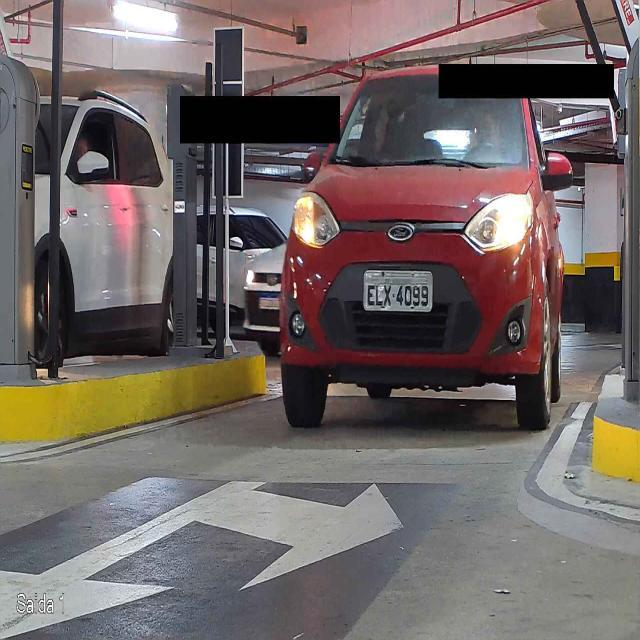old_plate: (361, 268, 435, 314)
